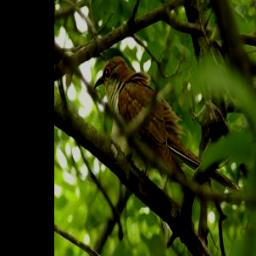Cuckoo: (93, 53, 241, 195)
